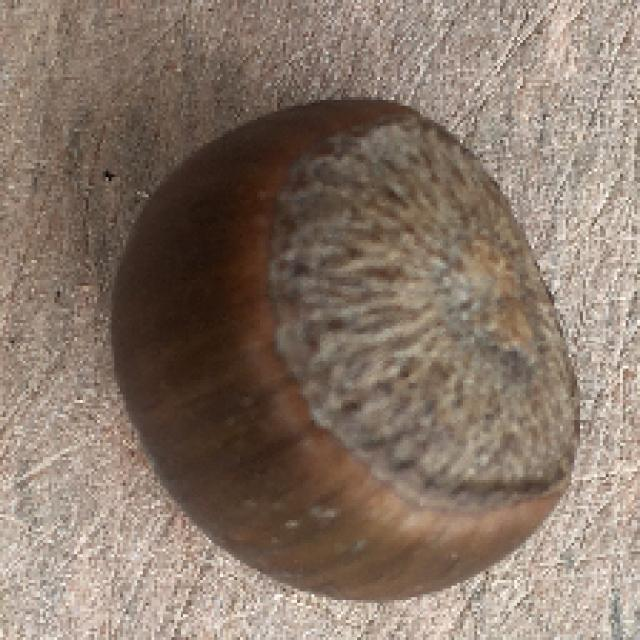qualityHazelnut: (100, 94, 600, 606)
